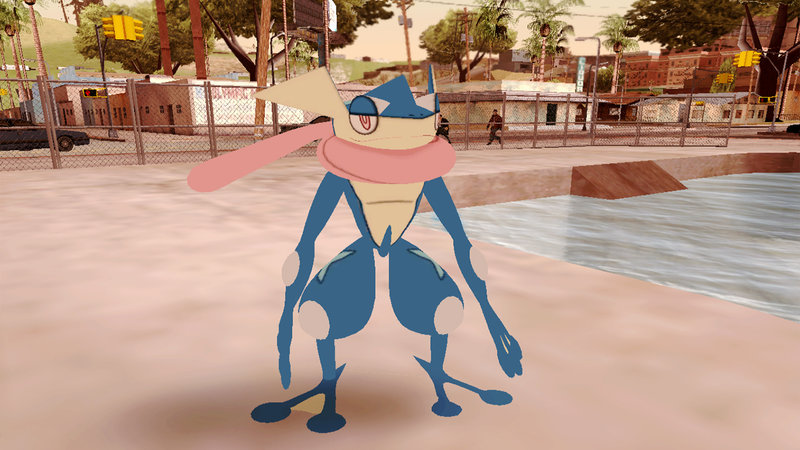greninja: (173, 54, 526, 429)
